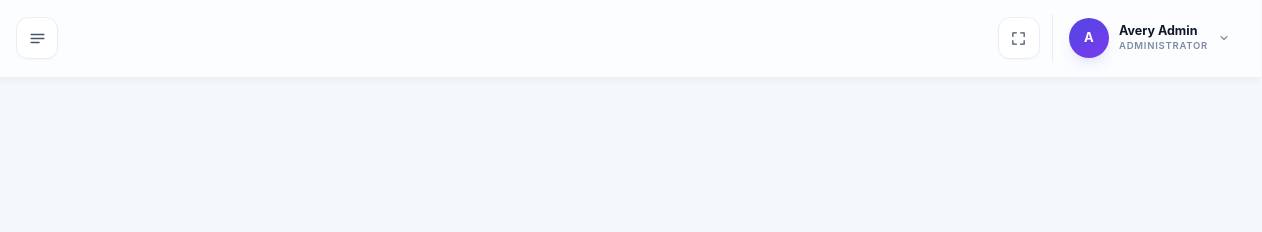
Test: the account menu opens from the profile trigger and closes on Escape
Later steps or results of the test are not shown.
Expected: the button "Log out" is not shown
Step 1. Click the button "A Avery Admin Administrator" → (1153, 38), box [1065,14,1241,62]
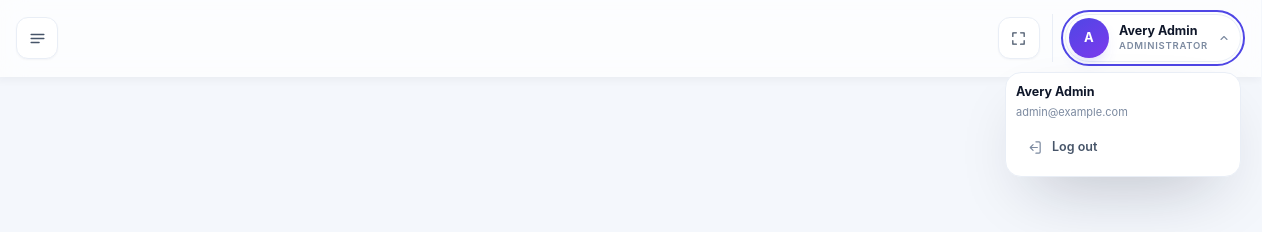
Result: the button "A Avery Admin Administrator" is expanded at [1065,14,1241,62]
Result: the text "admin@example.com" is shown at [1016,105,1128,119]
